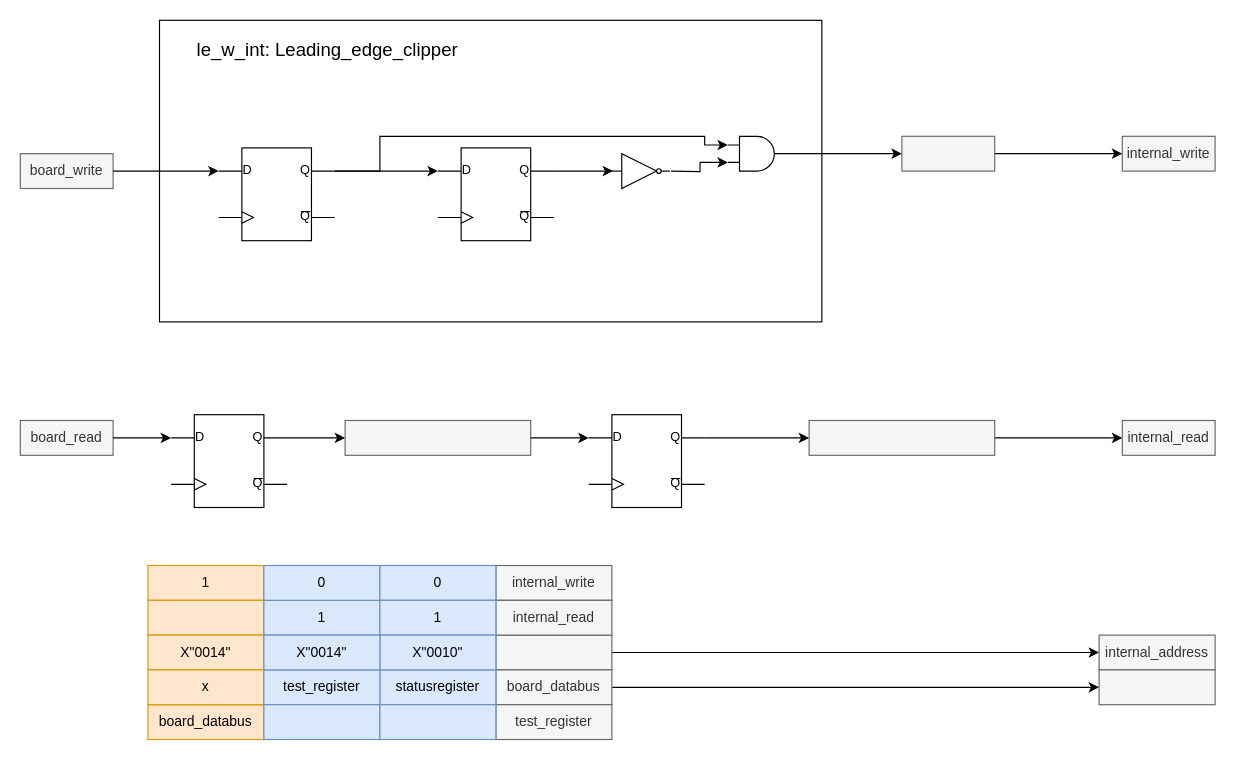
This 1235x760 diagram has some shape labels left out. Each missing label, with the centre of its shape:
board_address: point (553, 652)
board_read_pre_sync: point (437, 437)
board_read_sync: point (901, 437)
internal_databus: point (1156, 687)
le_write_int: point (948, 153)
